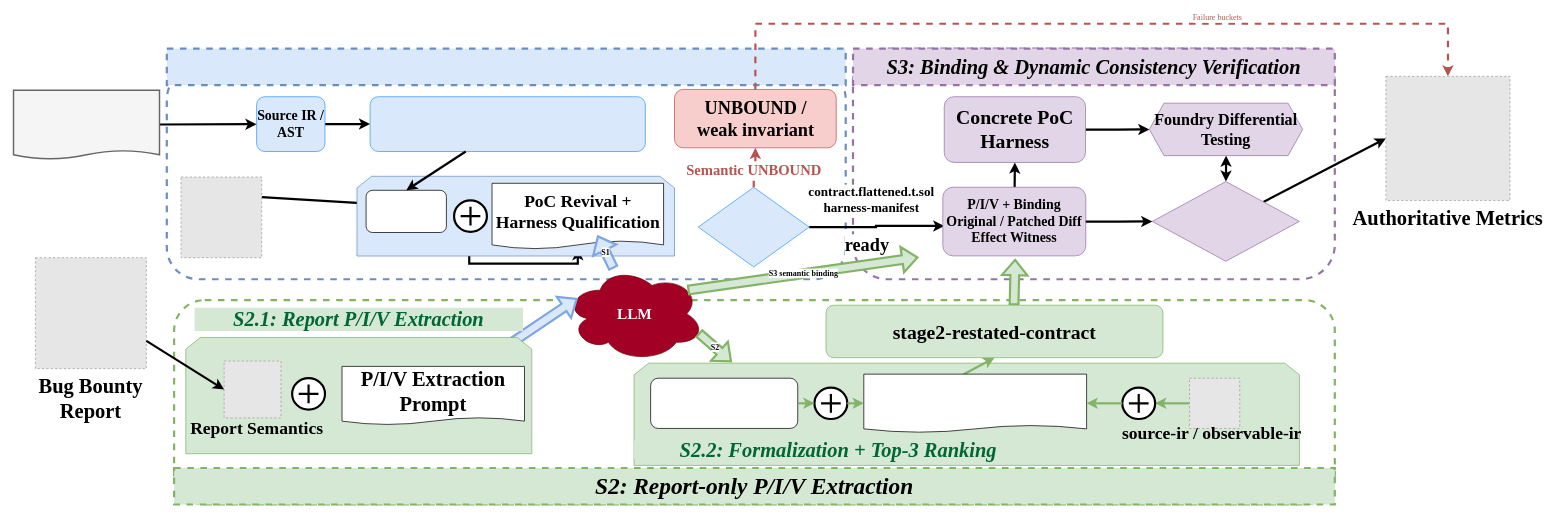
Image size: 1556x518. Some labels were removed from this diagram. Grey dashed boxes stand in for pictures. Each missing label, with the centre of its shape:
"Harness-Ready Check" goes at (x=753, y=227).
"P/I/V Claims Top-3 Candidates" goes at (x=724, y=402).
"S1: Source Slicing & PoC Revival" goes at (x=505, y=66).
"Slices" goes at (x=405, y=211).
"Smart Contract Source Code" goes at (x=86, y=124).
"Source Slicer" goes at (x=507, y=123).
"stage3-spec.json formalization.json" goes at (x=975, y=403).
"Witness Protocol + Execution Gate" goes at (x=1225, y=221).
